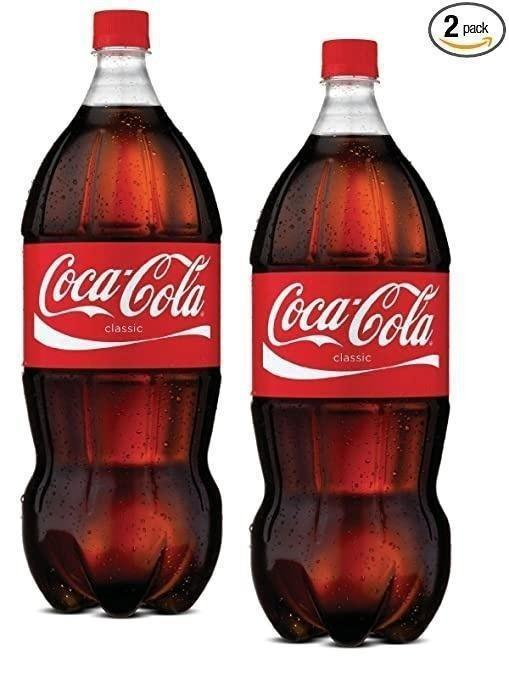bottle-plastic: (244, 37, 456, 650), (18, 8, 228, 621)
